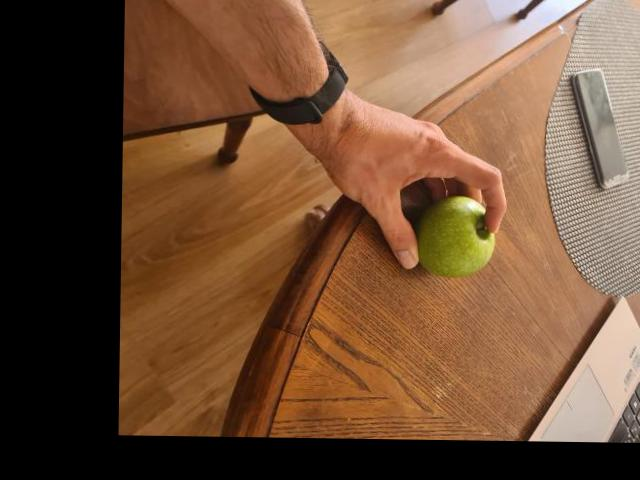apple: (411, 200, 495, 280)
